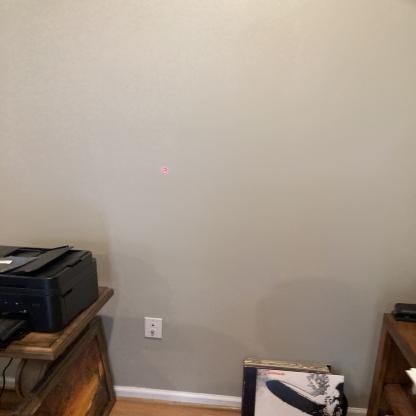target: (157, 166, 171, 171)
